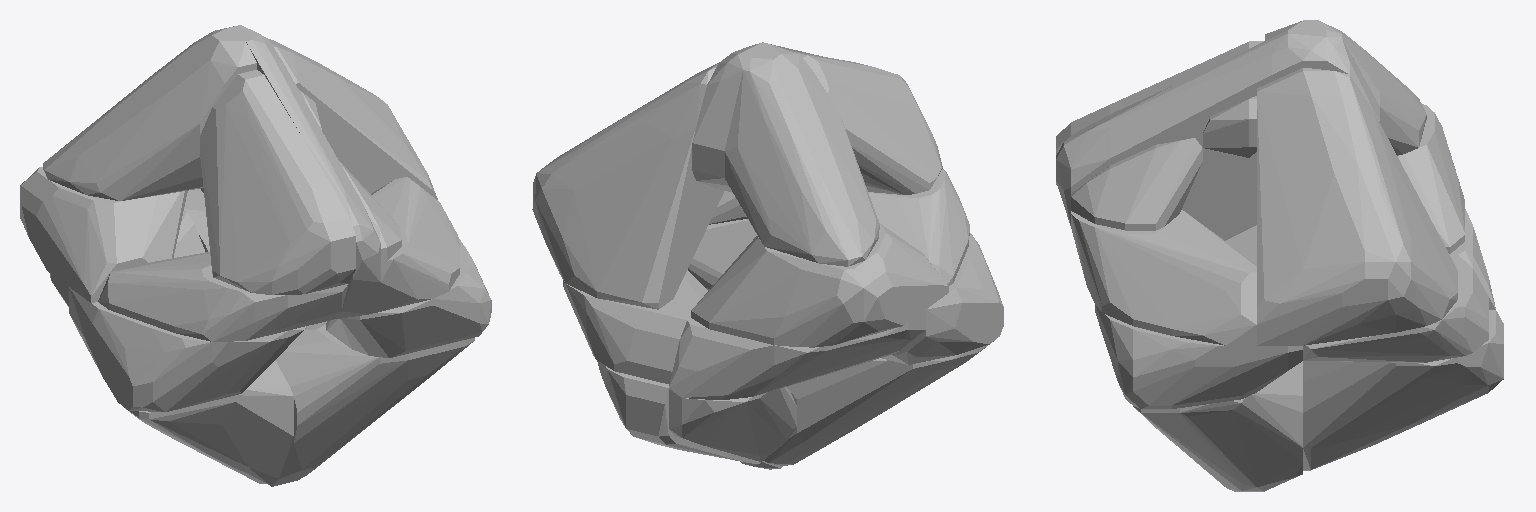
URDF robot description (root):
<robot name="root">
  <link name="link_thingiverse~holey_cube_2140384_convex_piece_0">
    <inertial>
      <origin rpy="0 0 0" xyz="0 0 0"/>
      <mass value="1.47E-02"/>
      <inertia ixx="8.98E-06" ixy="-2.35E-07" ixz="4.70E-07" iyy="5.71E-06" iyz="-1.42E-06" izz="3.45E-06"/>
    </inertial>
    <visual>
      <origin rpy="0 0 0" xyz="0 0 0"/>
      <geometry>
        <mesh filename="thingiverse~holey_cube_2140384_convex_piece_0.obj" scale="1.0000E+00 1.0000E+00 1.0000E+00"/>
      </geometry>
      <material name="">
        <color rgba="7.50E-01 7.50E-01 7.50E-01 1"/>
      </material>
    </visual>
    <collision>
      <origin rpy="0 0 0" xyz="0 0 0"/>
      <geometry>
        <mesh filename="thingiverse~holey_cube_2140384_convex_piece_0.obj" scale="1.0000E+00 1.0000E+00 1.0000E+00"/>
      </geometry>
    </collision>
  </link>
  <link name="link_thingiverse~holey_cube_2140384_convex_piece_1">
    <inertial>
      <origin rpy="0 0 0" xyz="0 0 0"/>
      <mass value="1.58E-02"/>
      <inertia ixx="8.27E-06" ixy="1.44E-06" ixz="3.30E-06" iyy="9.76E-06" iyz="2.10E-06" izz="3.96E-06"/>
    </inertial>
    <visual>
      <origin rpy="0 0 0" xyz="0 0 0"/>
      <geometry>
        <mesh filename="thingiverse~holey_cube_2140384_convex_piece_1.obj" scale="1.0000E+00 1.0000E+00 1.0000E+00"/>
      </geometry>
      <material name="">
        <color rgba="7.50E-01 7.50E-01 7.50E-01 1"/>
      </material>
    </visual>
    <collision>
      <origin rpy="0 0 0" xyz="0 0 0"/>
      <geometry>
        <mesh filename="thingiverse~holey_cube_2140384_convex_piece_1.obj" scale="1.0000E+00 1.0000E+00 1.0000E+00"/>
      </geometry>
    </collision>
  </link>
  <joint name="link_thingiverse~holey_cube_2140384_convex_piece_1_joint" type="fixed">
    <origin rpy="0 0 0" xyz="0 0 0"/>
    <parent link="link_thingiverse~holey_cube_2140384_convex_piece_0"/>
    <child link="link_thingiverse~holey_cube_2140384_convex_piece_1"/>
  </joint>
  <link name="link_thingiverse~holey_cube_2140384_convex_piece_2">
    <inertial>
      <origin rpy="0 0 0" xyz="0 0 0"/>
      <mass value="1.76E-02"/>
      <inertia ixx="3.74E-06" ixy="3.36E-06" ixz="2.10E-06" iyy="8.38E-06" iyz="1.08E-06" izz="1.04E-05"/>
    </inertial>
    <visual>
      <origin rpy="0 0 0" xyz="0 0 0"/>
      <geometry>
        <mesh filename="thingiverse~holey_cube_2140384_convex_piece_2.obj" scale="1.0000E+00 1.0000E+00 1.0000E+00"/>
      </geometry>
      <material name="">
        <color rgba="7.50E-01 7.50E-01 7.50E-01 1"/>
      </material>
    </visual>
    <collision>
      <origin rpy="0 0 0" xyz="0 0 0"/>
      <geometry>
        <mesh filename="thingiverse~holey_cube_2140384_convex_piece_2.obj" scale="1.0000E+00 1.0000E+00 1.0000E+00"/>
      </geometry>
    </collision>
  </link>
  <joint name="link_thingiverse~holey_cube_2140384_convex_piece_2_joint" type="fixed">
    <origin rpy="0 0 0" xyz="0 0 0"/>
    <parent link="link_thingiverse~holey_cube_2140384_convex_piece_1"/>
    <child link="link_thingiverse~holey_cube_2140384_convex_piece_2"/>
  </joint>
  <link name="link_thingiverse~holey_cube_2140384_convex_piece_3">
    <inertial>
      <origin rpy="0 0 0" xyz="0 0 0"/>
      <mass value="6.26E-03"/>
      <inertia ixx="4.01E-06" ixy="-5.00E-07" ixz="5.08E-07" iyy="2.25E-06" iyz="-1.67E-06" izz="2.15E-06"/>
    </inertial>
    <visual>
      <origin rpy="0 0 0" xyz="0 0 0"/>
      <geometry>
        <mesh filename="thingiverse~holey_cube_2140384_convex_piece_3.obj" scale="1.0000E+00 1.0000E+00 1.0000E+00"/>
      </geometry>
      <material name="">
        <color rgba="7.50E-01 7.50E-01 7.50E-01 1"/>
      </material>
    </visual>
    <collision>
      <origin rpy="0 0 0" xyz="0 0 0"/>
      <geometry>
        <mesh filename="thingiverse~holey_cube_2140384_convex_piece_3.obj" scale="1.0000E+00 1.0000E+00 1.0000E+00"/>
      </geometry>
    </collision>
  </link>
  <joint name="link_thingiverse~holey_cube_2140384_convex_piece_3_joint" type="fixed">
    <origin rpy="0 0 0" xyz="0 0 0"/>
    <parent link="link_thingiverse~holey_cube_2140384_convex_piece_2"/>
    <child link="link_thingiverse~holey_cube_2140384_convex_piece_3"/>
  </joint>
  <link name="link_thingiverse~holey_cube_2140384_convex_piece_4">
    <inertial>
      <origin rpy="0 0 0" xyz="0 0 0"/>
      <mass value="1.21E-02"/>
      <inertia ixx="4.39E-06" ixy="-2.39E-06" ixz="6.78E-07" iyy="3.06E-06" iyz="-9.98E-07" izz="6.70E-06"/>
    </inertial>
    <visual>
      <origin rpy="0 0 0" xyz="0 0 0"/>
      <geometry>
        <mesh filename="thingiverse~holey_cube_2140384_convex_piece_4.obj" scale="1.0000E+00 1.0000E+00 1.0000E+00"/>
      </geometry>
      <material name="">
        <color rgba="7.50E-01 7.50E-01 7.50E-01 1"/>
      </material>
    </visual>
    <collision>
      <origin rpy="0 0 0" xyz="0 0 0"/>
      <geometry>
        <mesh filename="thingiverse~holey_cube_2140384_convex_piece_4.obj" scale="1.0000E+00 1.0000E+00 1.0000E+00"/>
      </geometry>
    </collision>
  </link>
  <joint name="link_thingiverse~holey_cube_2140384_convex_piece_4_joint" type="fixed">
    <origin rpy="0 0 0" xyz="0 0 0"/>
    <parent link="link_thingiverse~holey_cube_2140384_convex_piece_3"/>
    <child link="link_thingiverse~holey_cube_2140384_convex_piece_4"/>
  </joint>
  <link name="link_thingiverse~holey_cube_2140384_convex_piece_5">
    <inertial>
      <origin rpy="0 0 0" xyz="0 0 0"/>
      <mass value="1.84E-02"/>
      <inertia ixx="1.04E-05" ixy="-1.63E-06" ixz="-3.18E-06" iyy="1.10E-05" iyz="2.74E-06" izz="4.15E-06"/>
    </inertial>
    <visual>
      <origin rpy="0 0 0" xyz="0 0 0"/>
      <geometry>
        <mesh filename="thingiverse~holey_cube_2140384_convex_piece_5.obj" scale="1.0000E+00 1.0000E+00 1.0000E+00"/>
      </geometry>
      <material name="">
        <color rgba="7.50E-01 7.50E-01 7.50E-01 1"/>
      </material>
    </visual>
    <collision>
      <origin rpy="0 0 0" xyz="0 0 0"/>
      <geometry>
        <mesh filename="thingiverse~holey_cube_2140384_convex_piece_5.obj" scale="1.0000E+00 1.0000E+00 1.0000E+00"/>
      </geometry>
    </collision>
  </link>
  <joint name="link_thingiverse~holey_cube_2140384_convex_piece_5_joint" type="fixed">
    <origin rpy="0 0 0" xyz="0 0 0"/>
    <parent link="link_thingiverse~holey_cube_2140384_convex_piece_4"/>
    <child link="link_thingiverse~holey_cube_2140384_convex_piece_5"/>
  </joint>
  <link name="link_thingiverse~holey_cube_2140384_convex_piece_6">
    <inertial>
      <origin rpy="0 0 0" xyz="0 0 0"/>
      <mass value="1.57E-02"/>
      <inertia ixx="4.10E-06" ixy="-3.61E-06" ixz="-1.54E-06" iyy="6.76E-06" iyz="1.08E-06" izz="9.69E-06"/>
    </inertial>
    <visual>
      <origin rpy="0 0 0" xyz="0 0 0"/>
      <geometry>
        <mesh filename="thingiverse~holey_cube_2140384_convex_piece_6.obj" scale="1.0000E+00 1.0000E+00 1.0000E+00"/>
      </geometry>
      <material name="">
        <color rgba="7.50E-01 7.50E-01 7.50E-01 1"/>
      </material>
    </visual>
    <collision>
      <origin rpy="0 0 0" xyz="0 0 0"/>
      <geometry>
        <mesh filename="thingiverse~holey_cube_2140384_convex_piece_6.obj" scale="1.0000E+00 1.0000E+00 1.0000E+00"/>
      </geometry>
    </collision>
  </link>
  <joint name="link_thingiverse~holey_cube_2140384_convex_piece_6_joint" type="fixed">
    <origin rpy="0 0 0" xyz="0 0 0"/>
    <parent link="link_thingiverse~holey_cube_2140384_convex_piece_5"/>
    <child link="link_thingiverse~holey_cube_2140384_convex_piece_6"/>
  </joint>
  <link name="link_thingiverse~holey_cube_2140384_convex_piece_7">
    <inertial>
      <origin rpy="0 0 0" xyz="0 0 0"/>
      <mass value="1.42E-02"/>
      <inertia ixx="9.66E-06" ixy="1.26E-06" ixz="-1.26E-06" iyy="5.53E-06" iyz="-3.89E-06" izz="5.37E-06"/>
    </inertial>
    <visual>
      <origin rpy="0 0 0" xyz="0 0 0"/>
      <geometry>
        <mesh filename="thingiverse~holey_cube_2140384_convex_piece_7.obj" scale="1.0000E+00 1.0000E+00 1.0000E+00"/>
      </geometry>
      <material name="">
        <color rgba="7.50E-01 7.50E-01 7.50E-01 1"/>
      </material>
    </visual>
    <collision>
      <origin rpy="0 0 0" xyz="0 0 0"/>
      <geometry>
        <mesh filename="thingiverse~holey_cube_2140384_convex_piece_7.obj" scale="1.0000E+00 1.0000E+00 1.0000E+00"/>
      </geometry>
    </collision>
  </link>
  <joint name="link_thingiverse~holey_cube_2140384_convex_piece_7_joint" type="fixed">
    <origin rpy="0 0 0" xyz="0 0 0"/>
    <parent link="link_thingiverse~holey_cube_2140384_convex_piece_6"/>
    <child link="link_thingiverse~holey_cube_2140384_convex_piece_7"/>
  </joint>
  <link name="link_thingiverse~holey_cube_2140384_convex_piece_8">
    <inertial>
      <origin rpy="0 0 0" xyz="0 0 0"/>
      <mass value="1.11E-02"/>
      <inertia ixx="4.13E-06" ixy="2.04E-06" ixz="-5.10E-07" iyy="2.40E-06" iyz="-8.81E-07" izz="5.96E-06"/>
    </inertial>
    <visual>
      <origin rpy="0 0 0" xyz="0 0 0"/>
      <geometry>
        <mesh filename="thingiverse~holey_cube_2140384_convex_piece_8.obj" scale="1.0000E+00 1.0000E+00 1.0000E+00"/>
      </geometry>
      <material name="">
        <color rgba="7.50E-01 7.50E-01 7.50E-01 1"/>
      </material>
    </visual>
    <collision>
      <origin rpy="0 0 0" xyz="0 0 0"/>
      <geometry>
        <mesh filename="thingiverse~holey_cube_2140384_convex_piece_8.obj" scale="1.0000E+00 1.0000E+00 1.0000E+00"/>
      </geometry>
    </collision>
  </link>
  <joint name="link_thingiverse~holey_cube_2140384_convex_piece_8_joint" type="fixed">
    <origin rpy="0 0 0" xyz="0 0 0"/>
    <parent link="link_thingiverse~holey_cube_2140384_convex_piece_7"/>
    <child link="link_thingiverse~holey_cube_2140384_convex_piece_8"/>
  </joint>
  <link name="link_thingiverse~holey_cube_2140384_convex_piece_9">
    <inertial>
      <origin rpy="0 0 0" xyz="0 0 0"/>
      <mass value="9.47E-03"/>
      <inertia ixx="3.26E-06" ixy="1.87E-06" ixz="-4.31E-07" iyy="2.27E-06" iyz="-6.22E-07" izz="5.18E-06"/>
    </inertial>
    <visual>
      <origin rpy="0 0 0" xyz="0 0 0"/>
      <geometry>
        <mesh filename="thingiverse~holey_cube_2140384_convex_piece_9.obj" scale="1.0000E+00 1.0000E+00 1.0000E+00"/>
      </geometry>
      <material name="">
        <color rgba="7.50E-01 7.50E-01 7.50E-01 1"/>
      </material>
    </visual>
    <collision>
      <origin rpy="0 0 0" xyz="0 0 0"/>
      <geometry>
        <mesh filename="thingiverse~holey_cube_2140384_convex_piece_9.obj" scale="1.0000E+00 1.0000E+00 1.0000E+00"/>
      </geometry>
    </collision>
  </link>
  <joint name="link_thingiverse~holey_cube_2140384_convex_piece_9_joint" type="fixed">
    <origin rpy="0 0 0" xyz="0 0 0"/>
    <parent link="link_thingiverse~holey_cube_2140384_convex_piece_8"/>
    <child link="link_thingiverse~holey_cube_2140384_convex_piece_9"/>
  </joint>
  <link name="link_thingiverse~holey_cube_2140384_convex_piece_10">
    <inertial>
      <origin rpy="0 0 0" xyz="0 0 0"/>
      <mass value="1.38E-02"/>
      <inertia ixx="8.99E-06" ixy="1.51E-06" ixz="-1.47E-06" iyy="5.26E-06" iyz="-3.53E-06" izz="5.35E-06"/>
    </inertial>
    <visual>
      <origin rpy="0 0 0" xyz="0 0 0"/>
      <geometry>
        <mesh filename="thingiverse~holey_cube_2140384_convex_piece_10.obj" scale="1.0000E+00 1.0000E+00 1.0000E+00"/>
      </geometry>
      <material name="">
        <color rgba="7.50E-01 7.50E-01 7.50E-01 1"/>
      </material>
    </visual>
    <collision>
      <origin rpy="0 0 0" xyz="0 0 0"/>
      <geometry>
        <mesh filename="thingiverse~holey_cube_2140384_convex_piece_10.obj" scale="1.0000E+00 1.0000E+00 1.0000E+00"/>
      </geometry>
    </collision>
  </link>
  <joint name="link_thingiverse~holey_cube_2140384_convex_piece_10_joint" type="fixed">
    <origin rpy="0 0 0" xyz="0 0 0"/>
    <parent link="link_thingiverse~holey_cube_2140384_convex_piece_9"/>
    <child link="link_thingiverse~holey_cube_2140384_convex_piece_10"/>
  </joint>
  <link name="link_thingiverse~holey_cube_2140384_convex_piece_11">
    <inertial>
      <origin rpy="0 0 0" xyz="0 0 0"/>
      <mass value="1.71E-02"/>
      <inertia ixx="4.62E-06" ixy="-3.92E-06" ixz="-1.76E-06" iyy="7.23E-06" iyz="1.28E-06" izz="1.03E-05"/>
    </inertial>
    <visual>
      <origin rpy="0 0 0" xyz="0 0 0"/>
      <geometry>
        <mesh filename="thingiverse~holey_cube_2140384_convex_piece_11.obj" scale="1.0000E+00 1.0000E+00 1.0000E+00"/>
      </geometry>
      <material name="">
        <color rgba="7.50E-01 7.50E-01 7.50E-01 1"/>
      </material>
    </visual>
    <collision>
      <origin rpy="0 0 0" xyz="0 0 0"/>
      <geometry>
        <mesh filename="thingiverse~holey_cube_2140384_convex_piece_11.obj" scale="1.0000E+00 1.0000E+00 1.0000E+00"/>
      </geometry>
    </collision>
  </link>
  <joint name="link_thingiverse~holey_cube_2140384_convex_piece_11_joint" type="fixed">
    <origin rpy="0 0 0" xyz="0 0 0"/>
    <parent link="link_thingiverse~holey_cube_2140384_convex_piece_10"/>
    <child link="link_thingiverse~holey_cube_2140384_convex_piece_11"/>
  </joint>
  <link name="link_thingiverse~holey_cube_2140384_convex_piece_12">
    <inertial>
      <origin rpy="0 0 0" xyz="0 0 0"/>
      <mass value="1.48E-02"/>
      <inertia ixx="8.47E-06" ixy="-1.41E-06" ixz="-2.88E-06" iyy="9.05E-06" iyz="2.36E-06" izz="3.46E-06"/>
    </inertial>
    <visual>
      <origin rpy="0 0 0" xyz="0 0 0"/>
      <geometry>
        <mesh filename="thingiverse~holey_cube_2140384_convex_piece_12.obj" scale="1.0000E+00 1.0000E+00 1.0000E+00"/>
      </geometry>
      <material name="">
        <color rgba="7.50E-01 7.50E-01 7.50E-01 1"/>
      </material>
    </visual>
    <collision>
      <origin rpy="0 0 0" xyz="0 0 0"/>
      <geometry>
        <mesh filename="thingiverse~holey_cube_2140384_convex_piece_12.obj" scale="1.0000E+00 1.0000E+00 1.0000E+00"/>
      </geometry>
    </collision>
  </link>
  <joint name="link_thingiverse~holey_cube_2140384_convex_piece_12_joint" type="fixed">
    <origin rpy="0 0 0" xyz="0 0 0"/>
    <parent link="link_thingiverse~holey_cube_2140384_convex_piece_11"/>
    <child link="link_thingiverse~holey_cube_2140384_convex_piece_12"/>
  </joint>
  <link name="link_thingiverse~holey_cube_2140384_convex_piece_13">
    <inertial>
      <origin rpy="0 0 0" xyz="0 0 0"/>
      <mass value="3.27E-02"/>
      <inertia ixx="1.05E-05" ixy="4.98E-06" ixz="5.51E-06" iyy="1.67E-05" iyz="3.08E-06" izz="1.50E-05"/>
    </inertial>
    <visual>
      <origin rpy="0 0 0" xyz="0 0 0"/>
      <geometry>
        <mesh filename="thingiverse~holey_cube_2140384_convex_piece_13.obj" scale="1.0000E+00 1.0000E+00 1.0000E+00"/>
      </geometry>
      <material name="">
        <color rgba="7.50E-01 7.50E-01 7.50E-01 1"/>
      </material>
    </visual>
    <collision>
      <origin rpy="0 0 0" xyz="0 0 0"/>
      <geometry>
        <mesh filename="thingiverse~holey_cube_2140384_convex_piece_13.obj" scale="1.0000E+00 1.0000E+00 1.0000E+00"/>
      </geometry>
    </collision>
  </link>
  <joint name="link_thingiverse~holey_cube_2140384_convex_piece_13_joint" type="fixed">
    <origin rpy="0 0 0" xyz="0 0 0"/>
    <parent link="link_thingiverse~holey_cube_2140384_convex_piece_12"/>
    <child link="link_thingiverse~holey_cube_2140384_convex_piece_13"/>
  </joint>
  <link name="link_thingiverse~holey_cube_2140384_convex_piece_14">
    <inertial>
      <origin rpy="0 0 0" xyz="0 0 0"/>
      <mass value="1.03E-02"/>
      <inertia ixx="3.44E-06" ixy="-2.30E-06" ixz="6.73E-07" iyy="3.15E-06" iyz="-7.66E-07" izz="6.00E-06"/>
    </inertial>
    <visual>
      <origin rpy="0 0 0" xyz="0 0 0"/>
      <geometry>
        <mesh filename="thingiverse~holey_cube_2140384_convex_piece_14.obj" scale="1.0000E+00 1.0000E+00 1.0000E+00"/>
      </geometry>
      <material name="">
        <color rgba="7.50E-01 7.50E-01 7.50E-01 1"/>
      </material>
    </visual>
    <collision>
      <origin rpy="0 0 0" xyz="0 0 0"/>
      <geometry>
        <mesh filename="thingiverse~holey_cube_2140384_convex_piece_14.obj" scale="1.0000E+00 1.0000E+00 1.0000E+00"/>
      </geometry>
    </collision>
  </link>
  <joint name="link_thingiverse~holey_cube_2140384_convex_piece_14_joint" type="fixed">
    <origin rpy="0 0 0" xyz="0 0 0"/>
    <parent link="link_thingiverse~holey_cube_2140384_convex_piece_13"/>
    <child link="link_thingiverse~holey_cube_2140384_convex_piece_14"/>
  </joint>
  <link name="link_thingiverse~holey_cube_2140384_convex_piece_15">
    <inertial>
      <origin rpy="0 0 0" xyz="0 0 0"/>
      <mass value="1.60E-03"/>
      <inertia ixx="1.03E-06" ixy="-2.44E-07" ixz="1.64E-07" iyy="4.24E-07" iyz="-4.54E-07" izz="7.95E-07"/>
    </inertial>
    <visual>
      <origin rpy="0 0 0" xyz="0 0 0"/>
      <geometry>
        <mesh filename="thingiverse~holey_cube_2140384_convex_piece_15.obj" scale="1.0000E+00 1.0000E+00 1.0000E+00"/>
      </geometry>
      <material name="">
        <color rgba="7.50E-01 7.50E-01 7.50E-01 1"/>
      </material>
    </visual>
    <collision>
      <origin rpy="0 0 0" xyz="0 0 0"/>
      <geometry>
        <mesh filename="thingiverse~holey_cube_2140384_convex_piece_15.obj" scale="1.0000E+00 1.0000E+00 1.0000E+00"/>
      </geometry>
    </collision>
  </link>
  <joint name="link_thingiverse~holey_cube_2140384_convex_piece_15_joint" type="fixed">
    <origin rpy="0 0 0" xyz="0 0 0"/>
    <parent link="link_thingiverse~holey_cube_2140384_convex_piece_14"/>
    <child link="link_thingiverse~holey_cube_2140384_convex_piece_15"/>
  </joint>
  <link name="link_thingiverse~holey_cube_2140384_convex_piece_16">
    <inertial>
      <origin rpy="0 0 0" xyz="0 0 0"/>
      <mass value="3.32E-04"/>
      <inertia ixx="2.00E-07" ixy="-1.30E-08" ixz="4.75E-08" iyy="1.97E-07" iyz="-5.03E-08" izz="2.79E-08"/>
    </inertial>
    <visual>
      <origin rpy="0 0 0" xyz="0 0 0"/>
      <geometry>
        <mesh filename="thingiverse~holey_cube_2140384_convex_piece_16.obj" scale="1.0000E+00 1.0000E+00 1.0000E+00"/>
      </geometry>
      <material name="">
        <color rgba="7.50E-01 7.50E-01 7.50E-01 1"/>
      </material>
    </visual>
    <collision>
      <origin rpy="0 0 0" xyz="0 0 0"/>
      <geometry>
        <mesh filename="thingiverse~holey_cube_2140384_convex_piece_16.obj" scale="1.0000E+00 1.0000E+00 1.0000E+00"/>
      </geometry>
    </collision>
  </link>
  <joint name="link_thingiverse~holey_cube_2140384_convex_piece_16_joint" type="fixed">
    <origin rpy="0 0 0" xyz="0 0 0"/>
    <parent link="link_thingiverse~holey_cube_2140384_convex_piece_15"/>
    <child link="link_thingiverse~holey_cube_2140384_convex_piece_16"/>
  </joint>
</robot>

--- Render facts (derived) ---
Views: 3 orthographic renders of the robot side by side, from view 1: azimuth 30°, elevation 25°; view 2: azimuth 150°, elevation 25°; view 3: azimuth 270°, elevation 25°.
Robot: root — 17 links, 16 joints (16 fixed); root link link_thingiverse~holey_cube_2140384_convex_piece_0; default pose: every joint at zero.
Visible links, largest first — view 1: link_thingiverse~holey_cube_2140384_convex_piece_10, link_thingiverse~holey_cube_2140384_convex_piece_12, link_thingiverse~holey_cube_2140384_convex_piece_2, link_thingiverse~holey_cube_2140384_convex_piece_5, link_thingiverse~holey_cube_2140384_convex_piece_11, link_thingiverse~holey_cube_2140384_convex_piece_9, link_thingiverse~holey_cube_2140384_convex_piece_1, link_thingiverse~holey_cube_2140384_convex_piece_13, link_thingiverse~holey_cube_2140384_convex_piece_6, link_thingiverse~holey_cube_2140384_convex_piece_14, link_thingiverse~holey_cube_2140384_convex_piece_0, link_thingiverse~holey_cube_2140384_convex_piece_15 (+2 smaller); view 2: link_thingiverse~holey_cube_2140384_convex_piece_13, link_thingiverse~holey_cube_2140384_convex_piece_12, link_thingiverse~holey_cube_2140384_convex_piece_11, link_thingiverse~holey_cube_2140384_convex_piece_4, link_thingiverse~holey_cube_2140384_convex_piece_10, link_thingiverse~holey_cube_2140384_convex_piece_1, link_thingiverse~holey_cube_2140384_convex_piece_8, link_thingiverse~holey_cube_2140384_convex_piece_3, link_thingiverse~holey_cube_2140384_convex_piece_2, link_thingiverse~holey_cube_2140384_convex_piece_9, link_thingiverse~holey_cube_2140384_convex_piece_0, link_thingiverse~holey_cube_2140384_convex_piece_7 (+2 smaller); view 3: link_thingiverse~holey_cube_2140384_convex_piece_13, link_thingiverse~holey_cube_2140384_convex_piece_0, link_thingiverse~holey_cube_2140384_convex_piece_14, link_thingiverse~holey_cube_2140384_convex_piece_7, link_thingiverse~holey_cube_2140384_convex_piece_5, link_thingiverse~holey_cube_2140384_convex_piece_6, link_thingiverse~holey_cube_2140384_convex_piece_15, link_thingiverse~holey_cube_2140384_convex_piece_8, link_thingiverse~holey_cube_2140384_convex_piece_11, link_thingiverse~holey_cube_2140384_convex_piece_12, link_thingiverse~holey_cube_2140384_convex_piece_16, link_thingiverse~holey_cube_2140384_convex_piece_10 (+2 smaller).
Boxes of the visible links, x1,y1,x2,y2 form: link_thingiverse~holey_cube_2140384_convex_piece_10: [200, 70, 355, 294]; link_thingiverse~holey_cube_2140384_convex_piece_12: [43, 28, 256, 200]; link_thingiverse~holey_cube_2140384_convex_piece_2: [69, 287, 306, 411]; link_thingiverse~holey_cube_2140384_convex_piece_5: [269, 321, 474, 486]; link_thingiverse~holey_cube_2140384_convex_piece_11: [20, 167, 187, 302]; link_thingiverse~holey_cube_2140384_convex_piece_9: [98, 252, 348, 341]; link_thingiverse~holey_cube_2140384_convex_piece_1: [123, 361, 293, 484]; link_thingiverse~holey_cube_2140384_convex_piece_13: [201, 37, 437, 199]; link_thingiverse~holey_cube_2140384_convex_piece_6: [326, 239, 491, 357]; link_thingiverse~holey_cube_2140384_convex_piece_14: [370, 177, 459, 313]; link_thingiverse~holey_cube_2140384_convex_piece_0: [224, 25, 380, 318]; link_thingiverse~holey_cube_2140384_convex_piece_15: [339, 161, 401, 261]; link_thingiverse~holey_cube_2140384_convex_piece_13: [532, 63, 723, 309]; link_thingiverse~holey_cube_2140384_convex_piece_12: [725, 44, 879, 266]; link_thingiverse~holey_cube_2140384_convex_piece_11: [691, 224, 948, 347]; link_thingiverse~holey_cube_2140384_convex_piece_4: [669, 310, 925, 399]; link_thingiverse~holey_cube_2140384_convex_piece_10: [792, 51, 942, 194]; link_thingiverse~holey_cube_2140384_convex_piece_1: [763, 339, 995, 465]; link_thingiverse~holey_cube_2140384_convex_piece_8: [563, 270, 707, 383]; link_thingiverse~holey_cube_2140384_convex_piece_3: [669, 387, 796, 461]; link_thingiverse~holey_cube_2140384_convex_piece_2: [882, 233, 1003, 364]; link_thingiverse~holey_cube_2140384_convex_piece_9: [868, 169, 969, 285]; link_thingiverse~holey_cube_2140384_convex_piece_0: [692, 42, 822, 192]; link_thingiverse~holey_cube_2140384_convex_piece_7: [597, 361, 760, 463]; link_thingiverse~holey_cube_2140384_convex_piece_13: [1257, 68, 1457, 345]; link_thingiverse~holey_cube_2140384_convex_piece_0: [1056, 30, 1379, 240]; link_thingiverse~holey_cube_2140384_convex_piece_14: [1071, 210, 1256, 345]; link_thingiverse~holey_cube_2140384_convex_piece_7: [1303, 310, 1503, 470]; link_thingiverse~holey_cube_2140384_convex_piece_5: [1133, 361, 1302, 491]; link_thingiverse~holey_cube_2140384_convex_piece_6: [1095, 305, 1302, 408]; link_thingiverse~holey_cube_2140384_convex_piece_15: [1071, 138, 1202, 230]; link_thingiverse~holey_cube_2140384_convex_piece_8: [1303, 254, 1488, 362]; link_thingiverse~holey_cube_2140384_convex_piece_11: [1398, 103, 1464, 253]; link_thingiverse~holey_cube_2140384_convex_piece_12: [1265, 20, 1426, 155]; link_thingiverse~holey_cube_2140384_convex_piece_16: [1203, 96, 1256, 157]; link_thingiverse~holey_cube_2140384_convex_piece_10: [1056, 41, 1263, 185].
Size in the robot's own frame: 0.0644 by 0.0667 by 0.0736 metres.
17 mesh visuals loaded from 17 distinct referenced files (17 OBJ).
